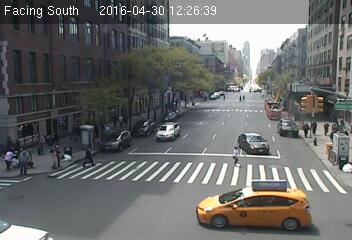neg: (331, 137, 351, 166), (187, 90, 199, 106), (169, 98, 180, 113), (281, 93, 292, 107), (264, 80, 273, 91), (305, 78, 312, 87)
pos: (46, 142, 66, 169), (225, 142, 245, 168), (14, 148, 33, 173), (78, 143, 97, 167), (1, 147, 17, 168), (307, 117, 321, 137), (35, 134, 49, 153), (320, 120, 333, 137), (300, 120, 312, 137), (237, 91, 245, 101), (241, 92, 248, 102), (334, 122, 341, 131), (220, 92, 227, 101)
